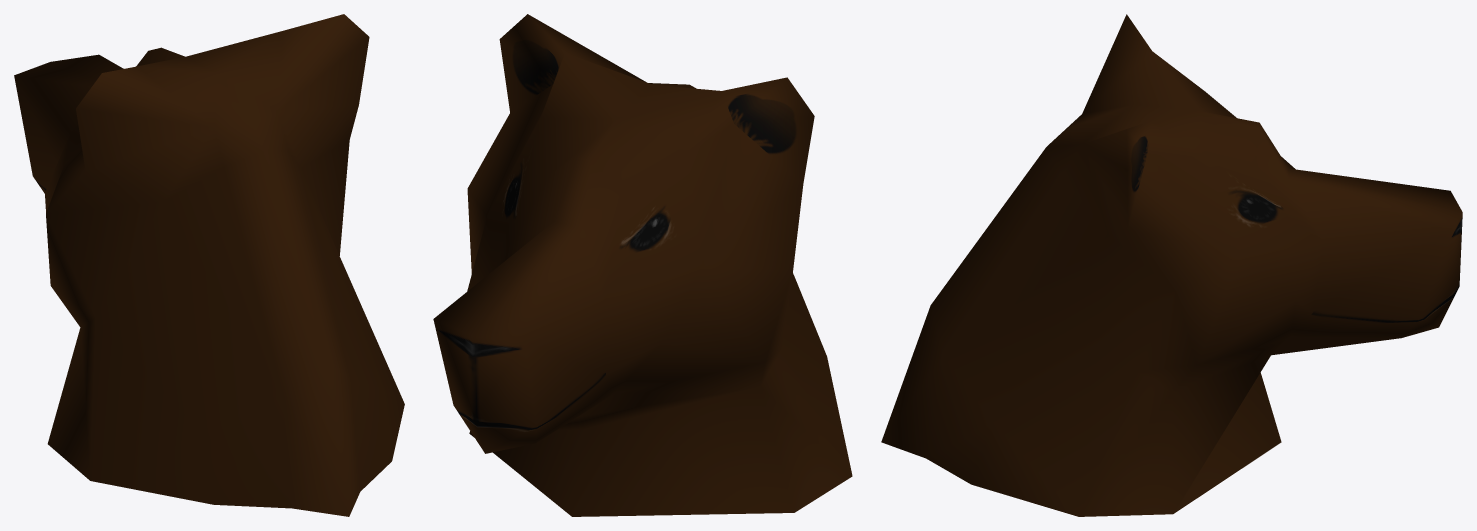
File: Bear.fbx
3 renders of one model, left to right at view 1: azimuth 30°, elevation 25°; view 2: azimuth 150°, elevation 25°; view 3: azimuth 270°, elevation 25°, orthographic. The views are drawn at different scales.
Visible parts, largest first — view 1: pPlane3; view 2: pPlane3; view 3: pPlane3.
Part boxes in pixels (x1,y1,x2,y2): pPlane3: (14,14,404,516); pPlane3: (433,14,852,516); pPlane3: (881,14,1462,516).
Bounding box in the file's own units: 46.29 × 53.58 × 76.16.
